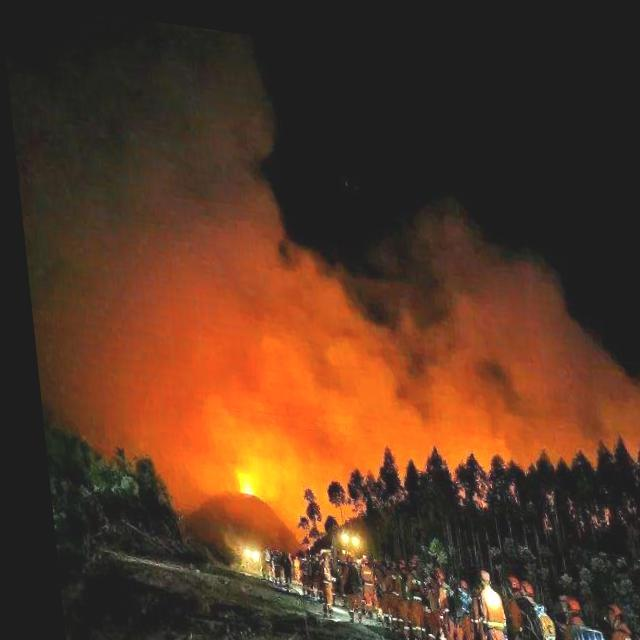Fire: (215, 454, 264, 501)
